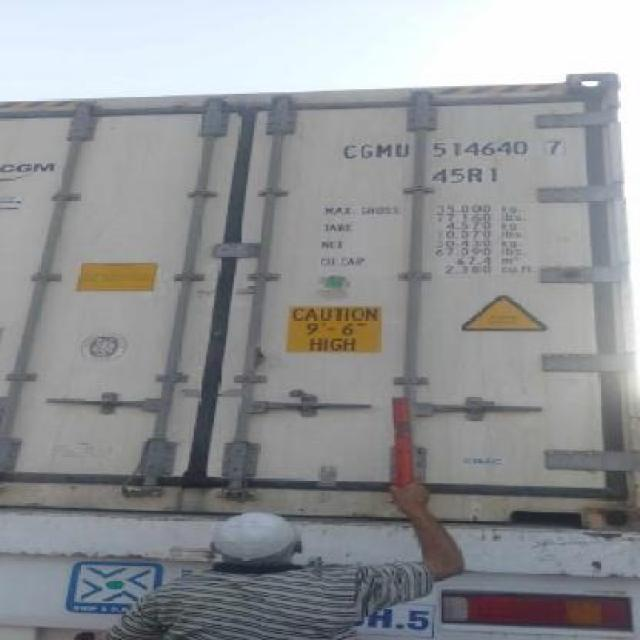ISO: (433, 166, 501, 184)
container_number: (339, 134, 567, 158)
